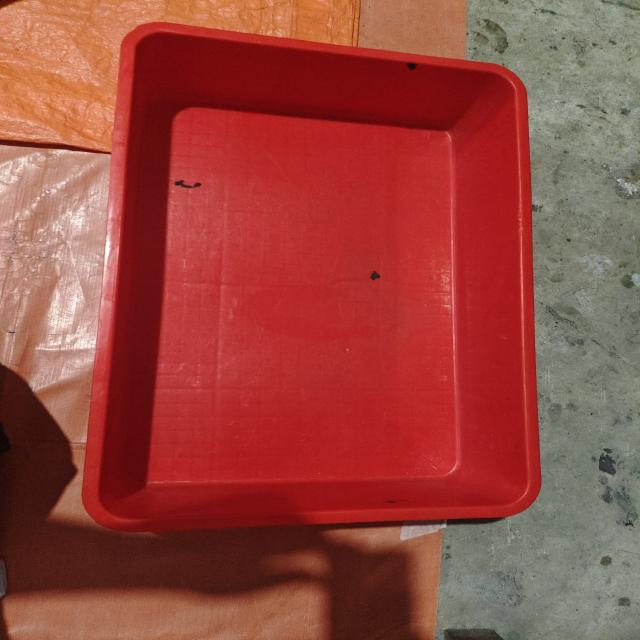red plastic box: (82, 22, 542, 532)
